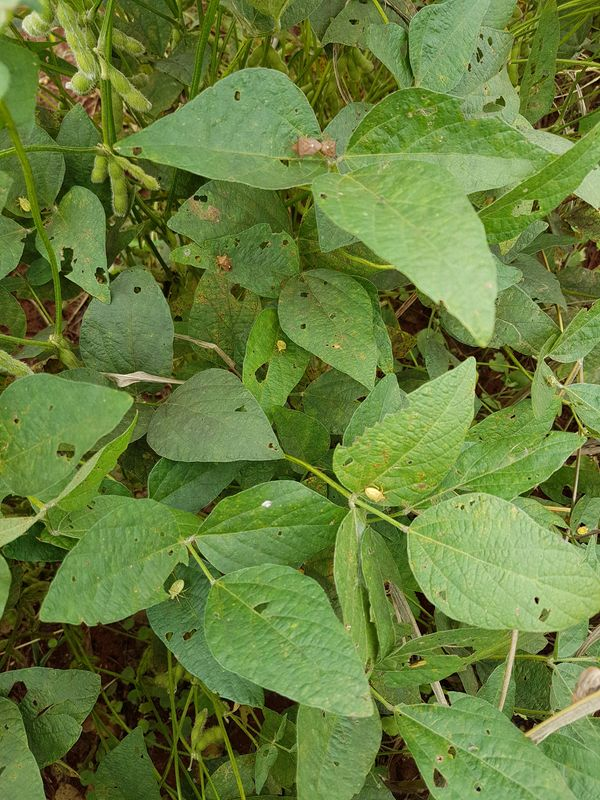Euschistus_heros_adulto: (286, 129, 322, 165), (209, 250, 236, 277), (323, 135, 343, 161)
Euschistus_heros_ninfa: (164, 573, 194, 604), (359, 480, 390, 508), (13, 192, 34, 215), (272, 336, 289, 354)
